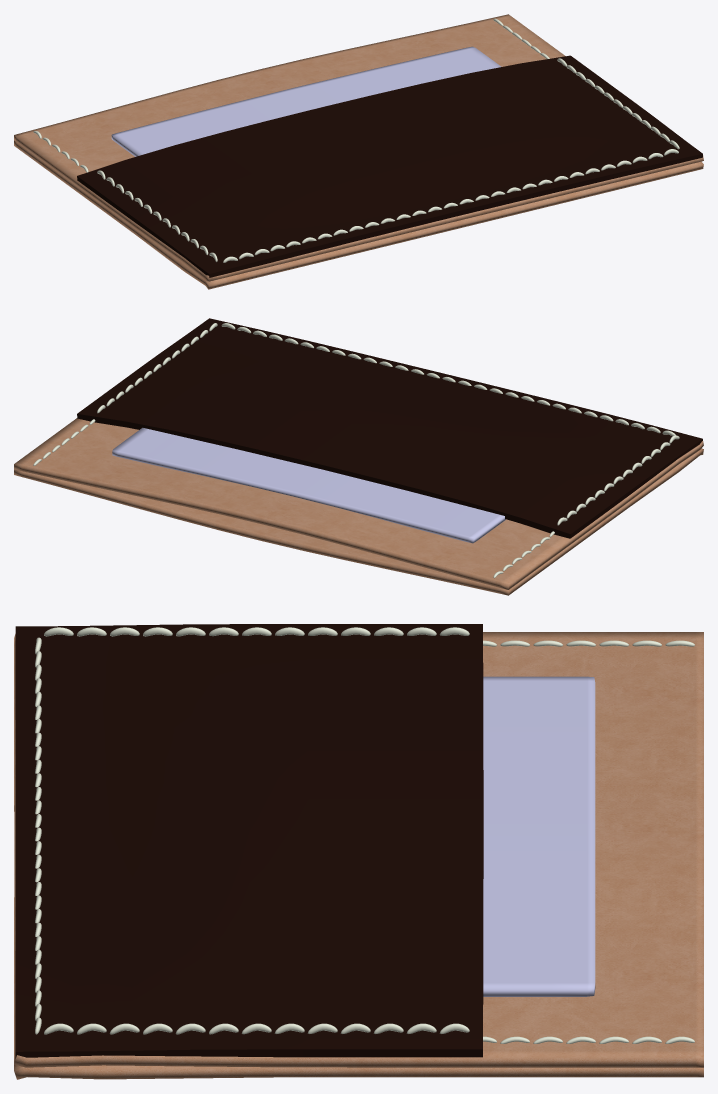
Rendered from leather_card_case.glb.
The picture shows the model from 3 angles, top to bottom: view 1: azimuth 30°, elevation 25°; view 2: azimuth 150°, elevation 25°; view 3: azimuth 270°, elevation 25°; orthographic projection. The views are drawn at different scales.
Visible parts, largest first — view 1: Plane.002, Plane.001, Plane, Plane.005, Plane.004, Plane.003; view 2: Plane.002, Plane.001, Plane, Plane.005, Plane.004, Plane.003; view 3: Plane.002, Plane.001, Plane, Plane.004, Plane.005, Plane.003.
Part boxes in pixels (box(x1,y1,x2,y2)): Plane.002: box(77, 55, 702, 277); Plane.001: box(14, 14, 703, 289); Plane: box(111, 46, 501, 156); Plane.005: box(223, 149, 678, 262); Plane.004: box(97, 58, 679, 261); Plane.003: box(33, 18, 549, 172); Plane.002: box(77, 318, 702, 538); Plane.001: box(14, 418, 703, 595); Plane: box(112, 427, 505, 543); Plane.005: box(221, 323, 675, 436); Plane.004: box(97, 323, 679, 525); Plane.003: box(33, 419, 554, 578); Plane.002: box(15, 624, 483, 1058); Plane.001: box(14, 632, 703, 1079); Plane: box(483, 676, 595, 996); Plane.004: box(44, 627, 469, 1034); Plane.005: box(35, 637, 41, 1034); Plane.003: box(483, 640, 694, 1043).
Size of the model in its own units: 0.116 by 0.00673 by 0.0793.
4 materials, 1 textured.
